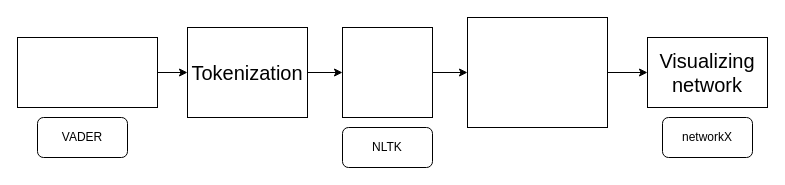
This 785x185 diagram has some shape labels left out. The shapes that lost their labels are listed below. From the top down, each one's centre as x and y in pixels, then its label:
At point (87, 72): "Sentiment Analysis".
At point (387, 72): "Stop Words Removal".
At point (537, 72): "Collecting most recurring bigrams".
